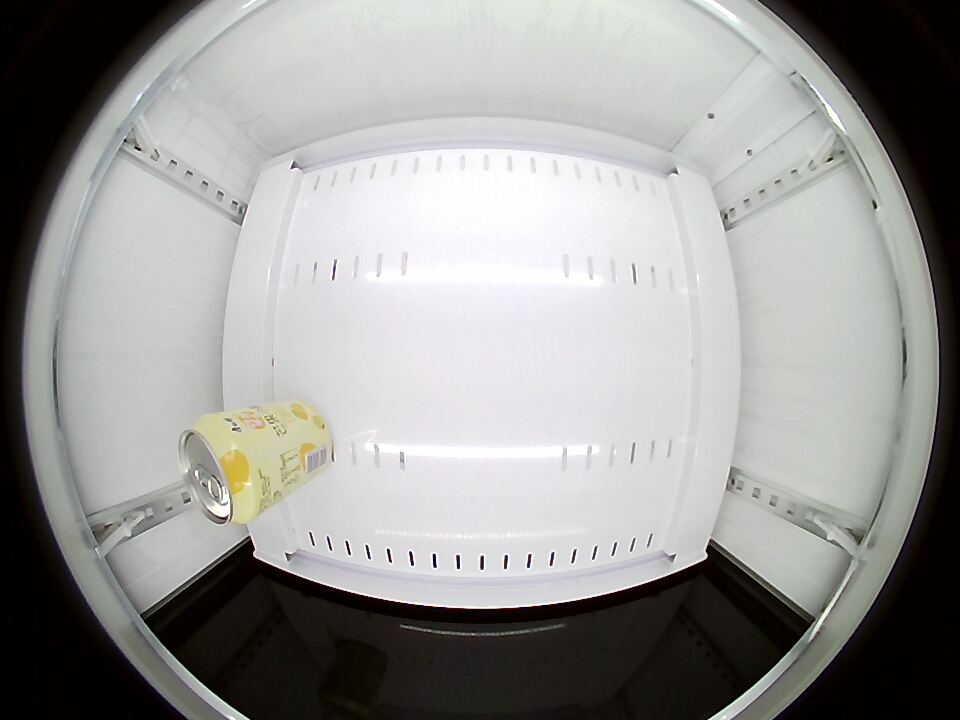mangguoxiaolao: (179, 414, 264, 526)
